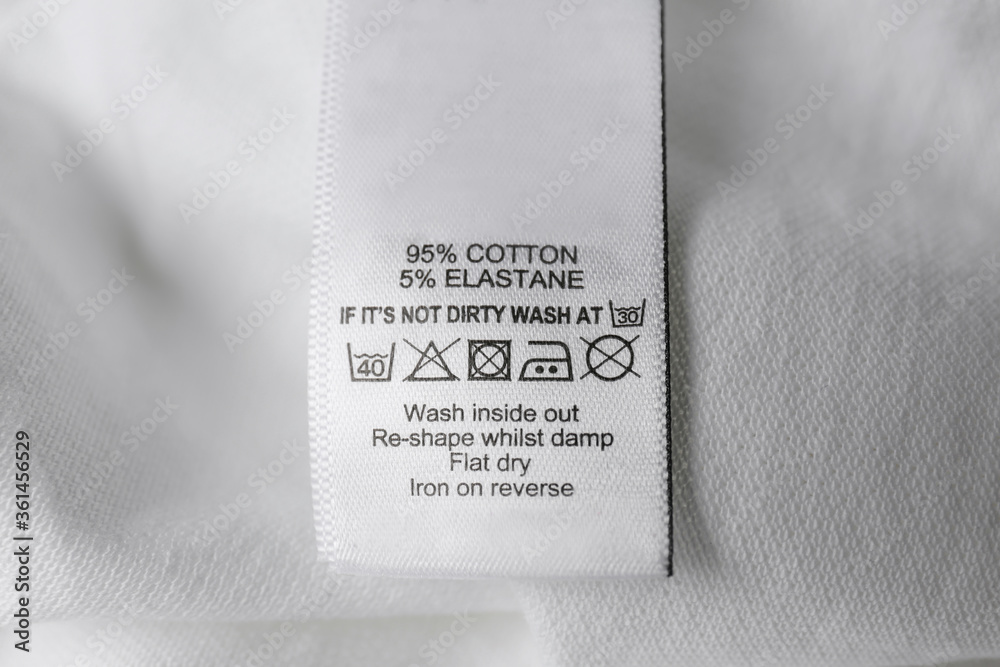ER_iron_medium_temp: (520, 334, 577, 386)
ER_no_bleach: (403, 332, 461, 388)
ER_no_dry_clean: (584, 329, 636, 383)
ER_no_tumble_dry: (463, 334, 516, 386)
ER_wash_30: (607, 294, 648, 331)
ER_wash_40: (341, 333, 400, 390)
